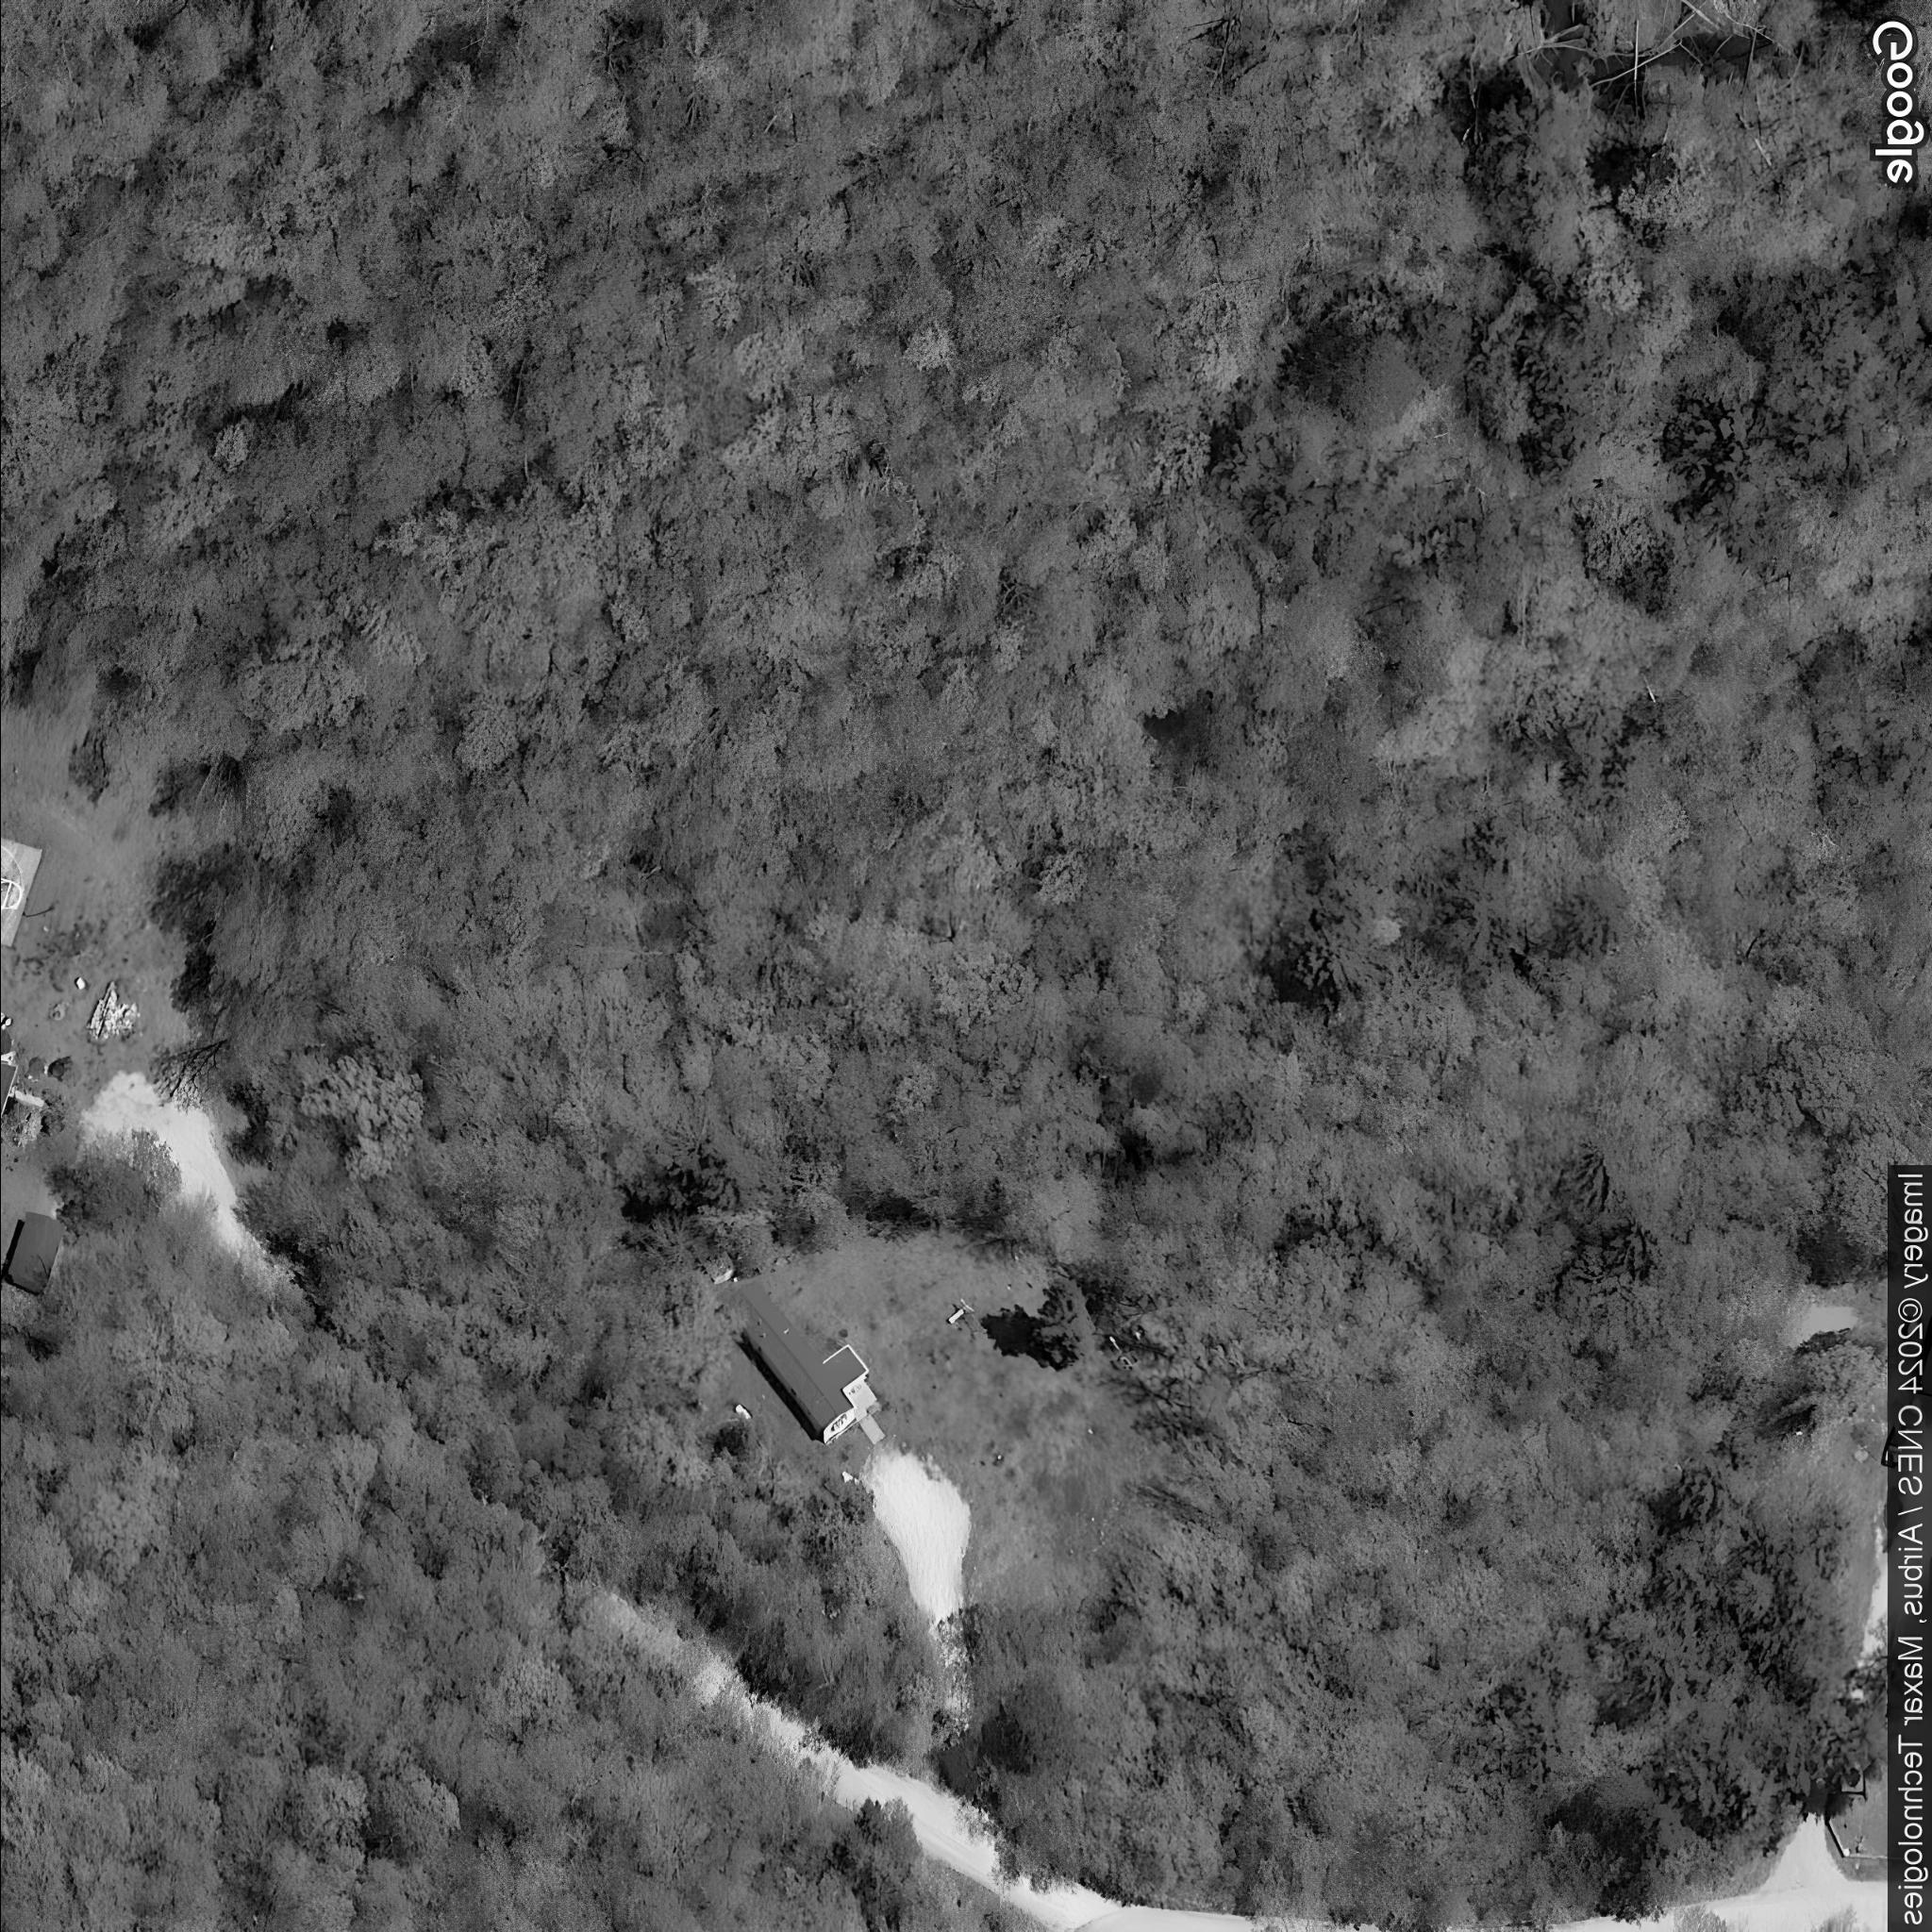Garage: (5, 1208, 67, 1297)
House: (0, 1058, 19, 1116)
Propane: (731, 1403, 754, 1422), (945, 1306, 964, 1325)
Trailer: (722, 1281, 869, 1440)
